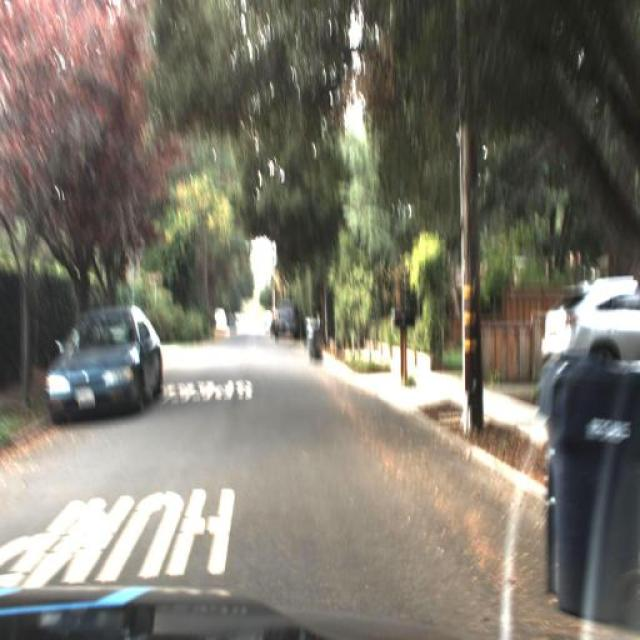car: (40, 292, 164, 422), (540, 255, 634, 370), (540, 262, 640, 368), (272, 303, 304, 341), (210, 296, 232, 332)
